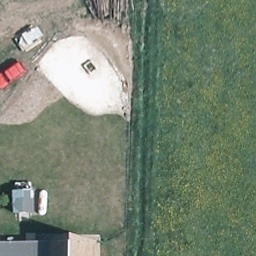car: (0, 61, 29, 91)
